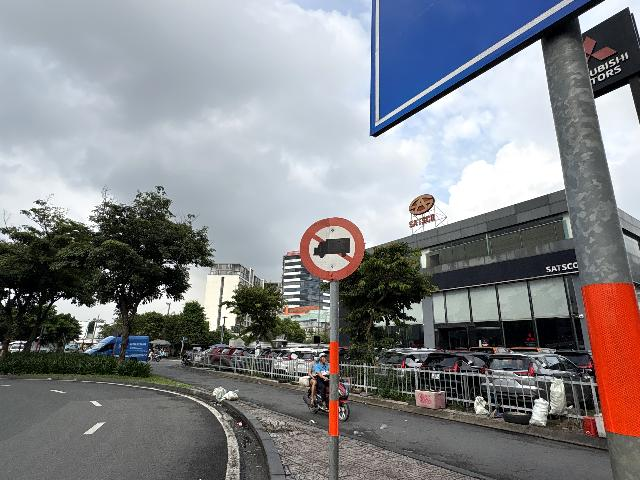cam-xe-tai: (299, 217, 365, 281)
